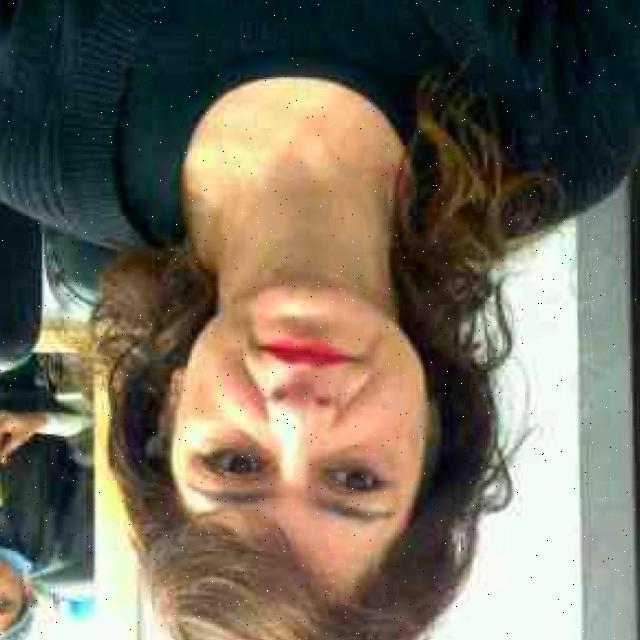puffy_eyes: (322, 445, 394, 477), (210, 430, 268, 455)
